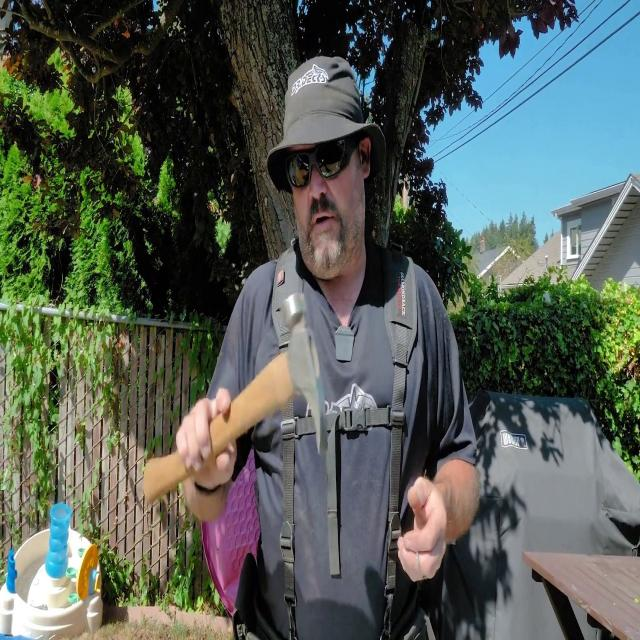hammer: (144, 292, 326, 505)
